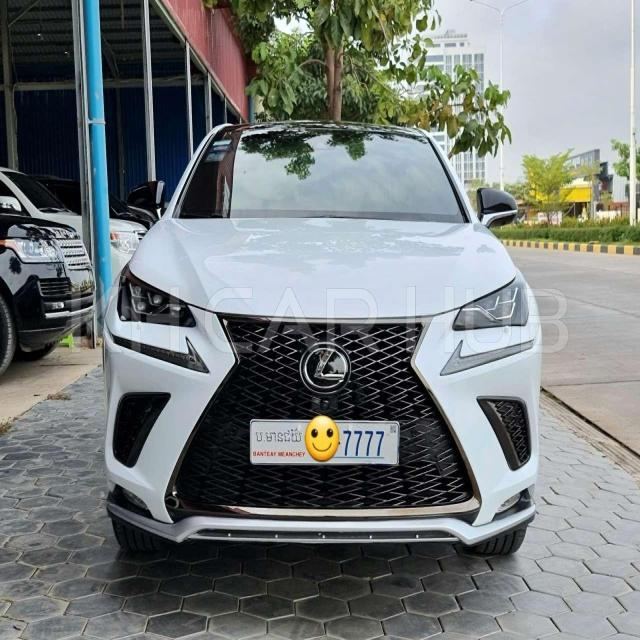Banteay_Meanchey: (256, 428, 302, 443)
